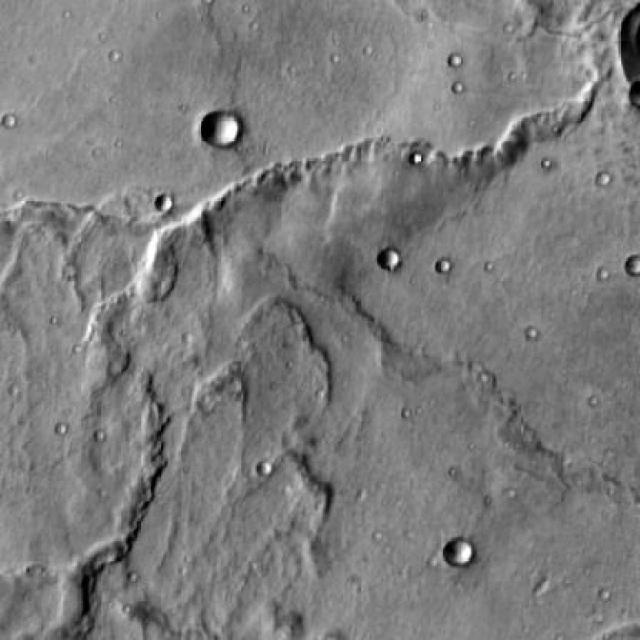crater: (202, 112, 241, 148), (446, 538, 474, 564), (380, 252, 402, 272), (154, 194, 172, 211)
